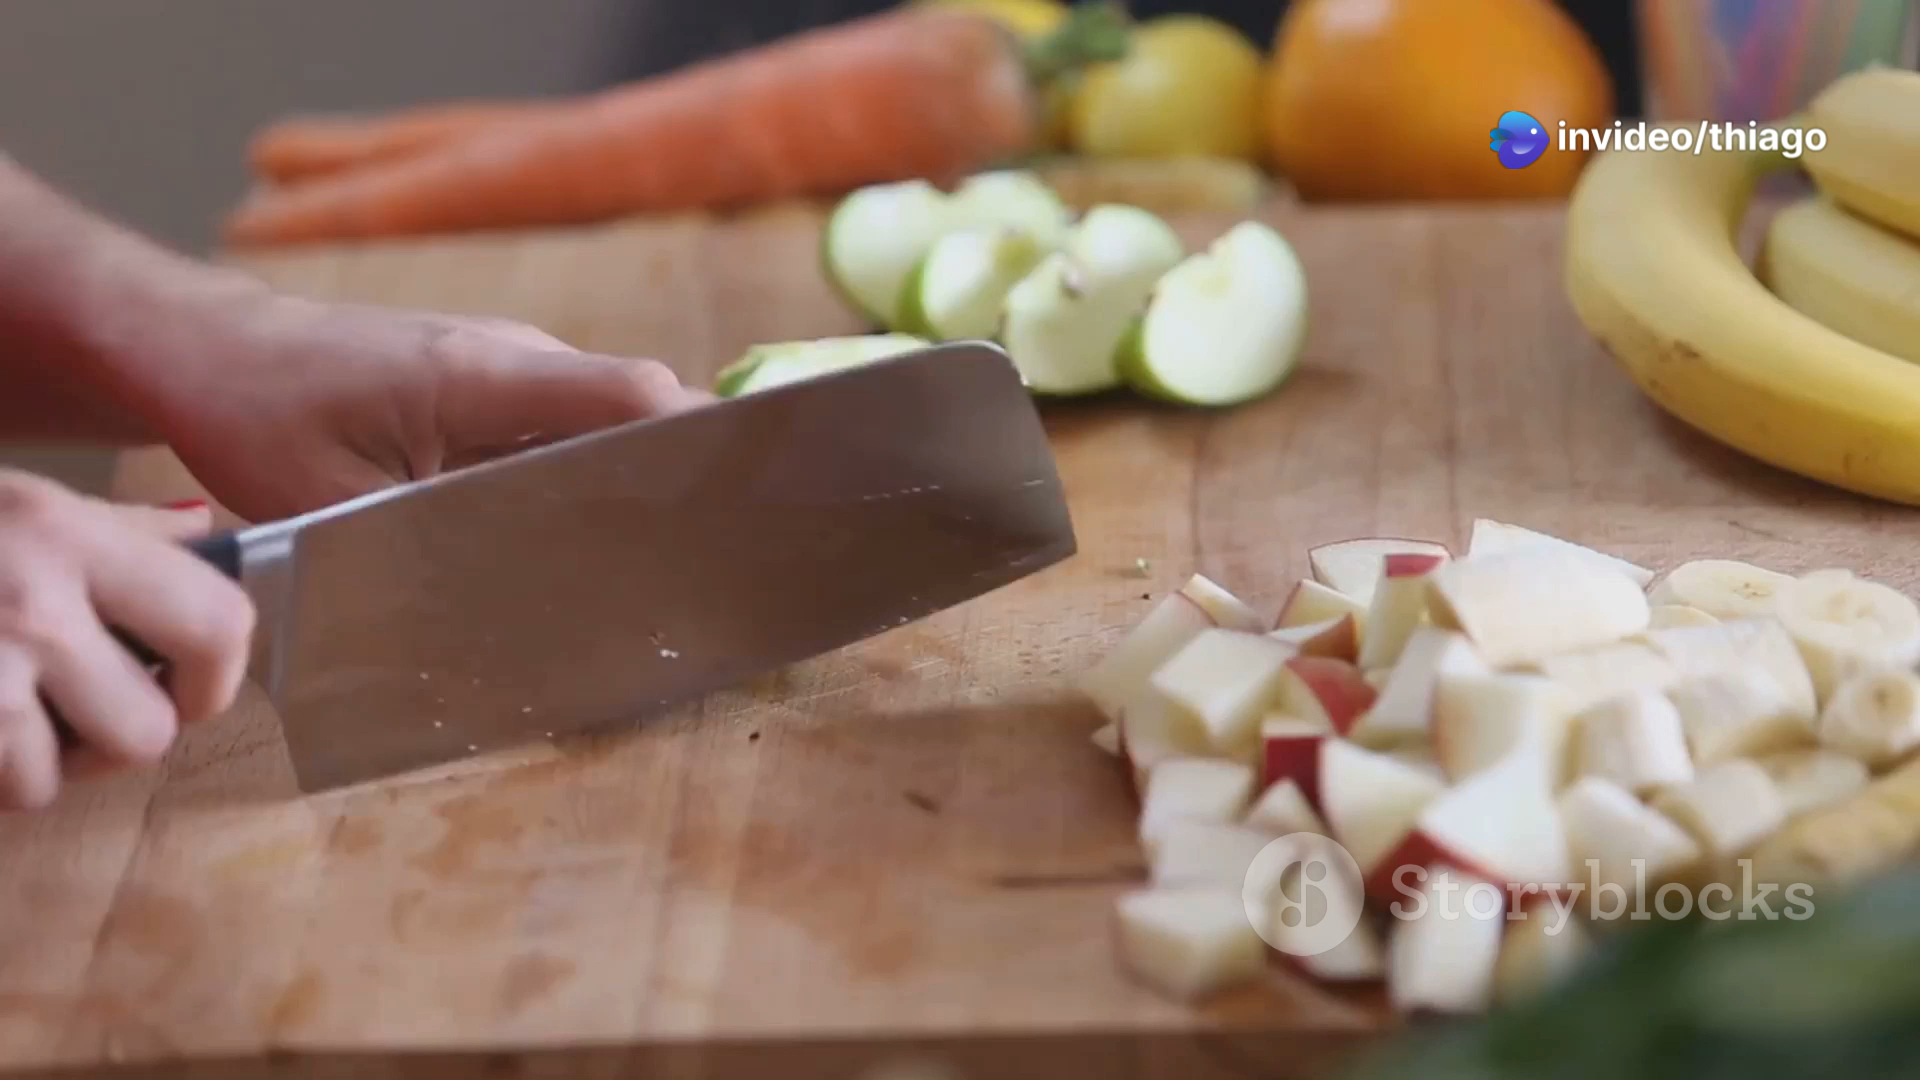cortante: (220, 339, 1083, 810)
